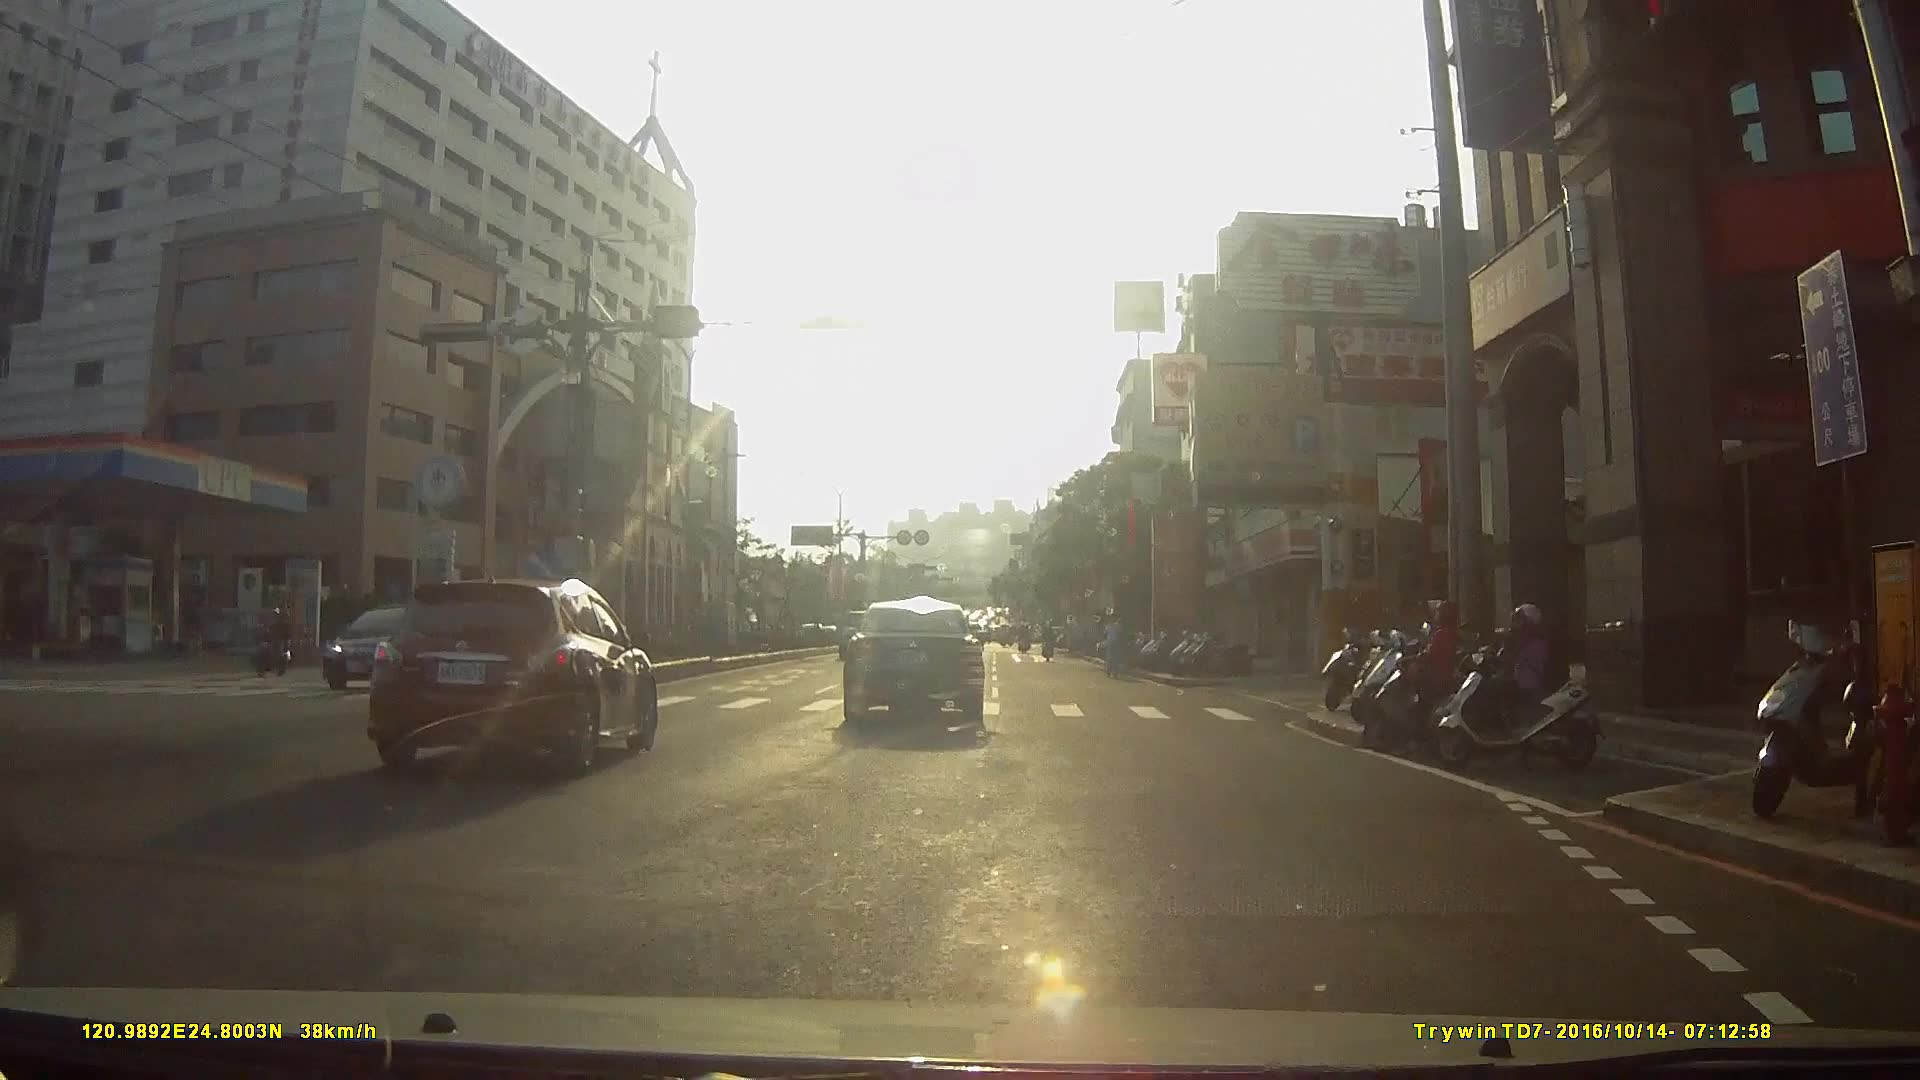rider: (1427, 599, 1608, 777), (1357, 599, 1502, 756), (252, 605, 297, 678), (1101, 614, 1129, 680)
vehicle: (369, 579, 667, 794), (848, 610, 1002, 745), (304, 601, 496, 706), (763, 607, 822, 662)
